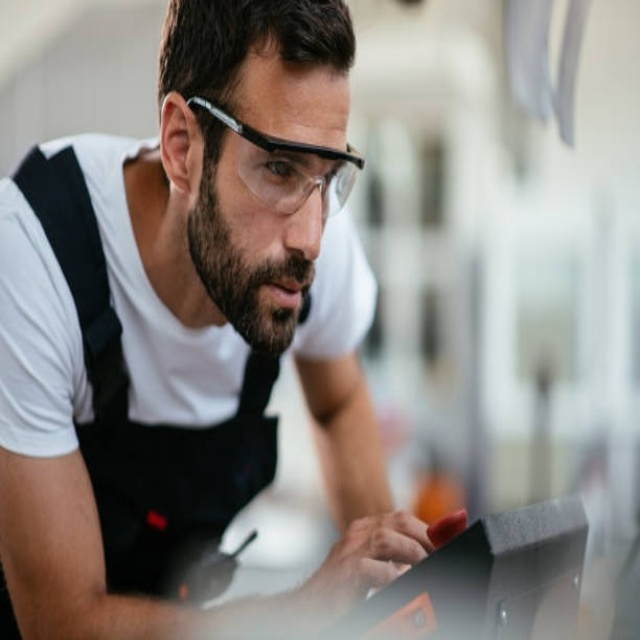Gafas: (183, 98, 365, 219)
Sin_guantes: (304, 494, 444, 624)
Sin_mascara: (251, 256, 316, 339)
